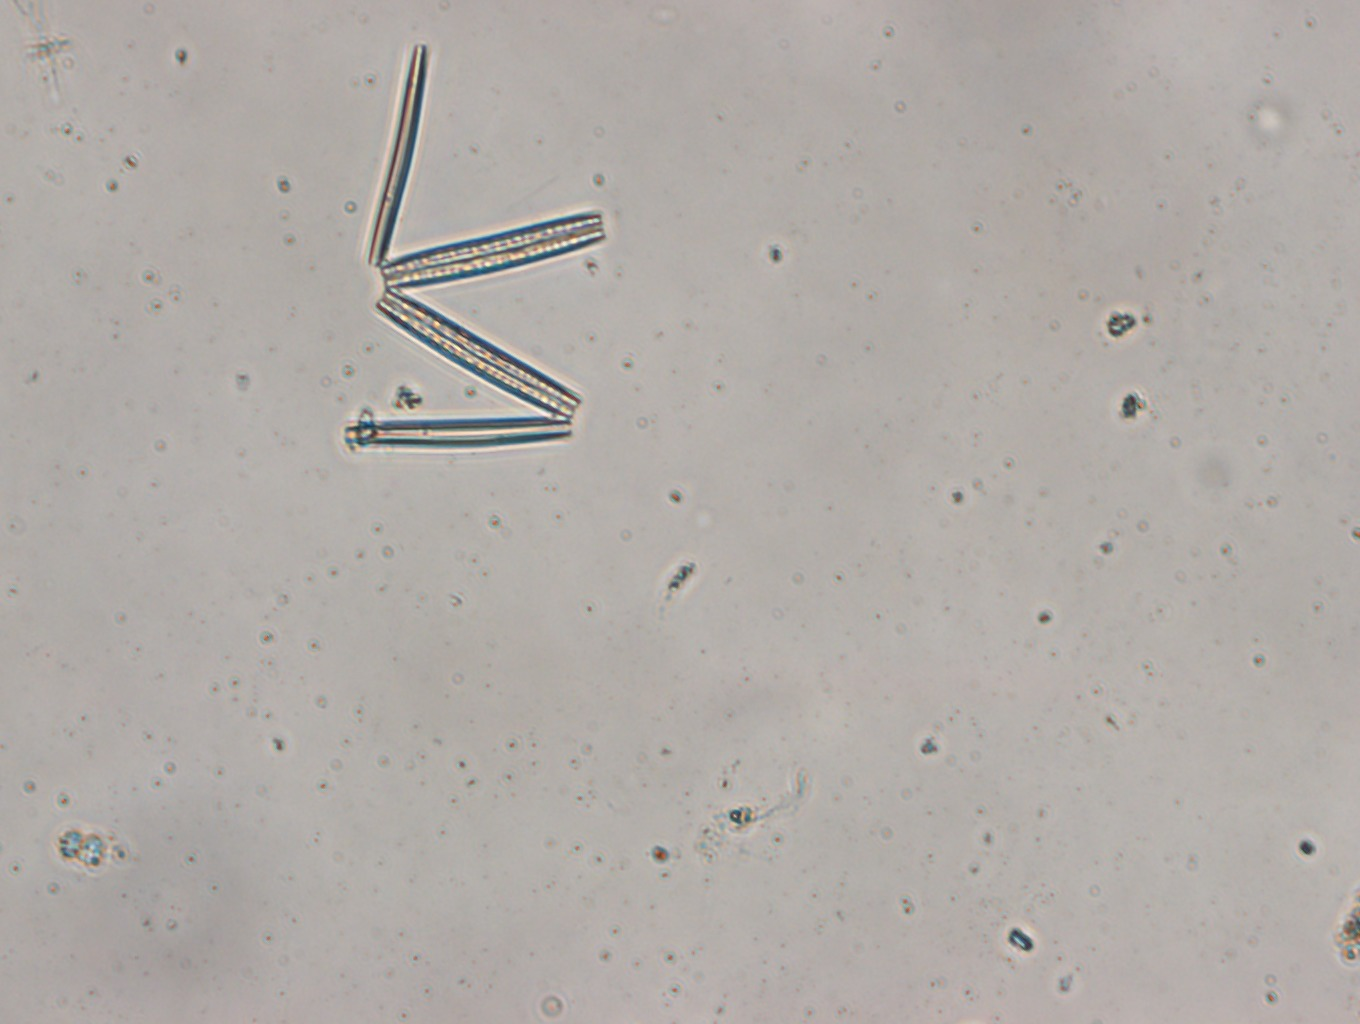thalassionema nitzschioides: (342, 45, 607, 451)
